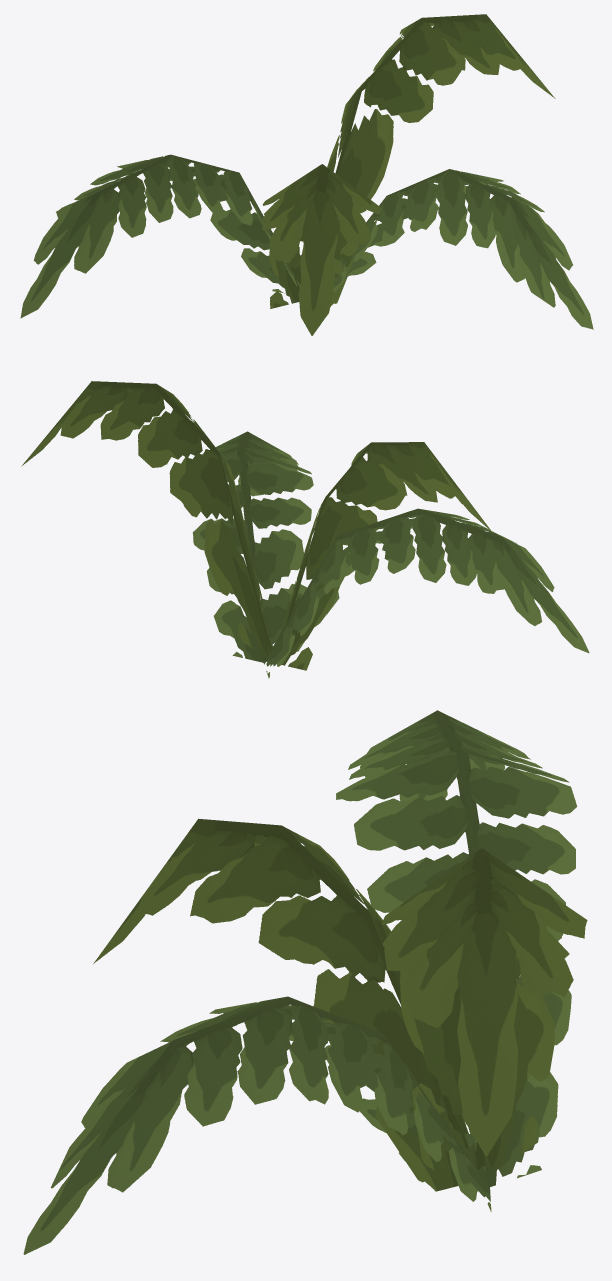
File: SM_Env_Fern_03.fbx
3 views of the same model, one above another, from view 1: azimuth 30°, elevation 25°; view 2: azimuth 150°, elevation 25°; view 3: azimuth 270°, elevation 25° (orthographic). The views are drawn at different scales.
Parts seen in each view (by area): view 1: SM_Env_Fern_03_LOD0; view 2: SM_Env_Fern_03_LOD0; view 3: SM_Env_Fern_03_LOD0.
Part boxes in pixels (<box>): SM_Env_Fern_03_LOD0: <box>20,14,593,335</box>; SM_Env_Fern_03_LOD0: <box>21,381,589,678</box>; SM_Env_Fern_03_LOD0: <box>23,710,587,1254</box>.
Size of what is drawn, in the model's own units: 141 by 59.86 by 73.5.
